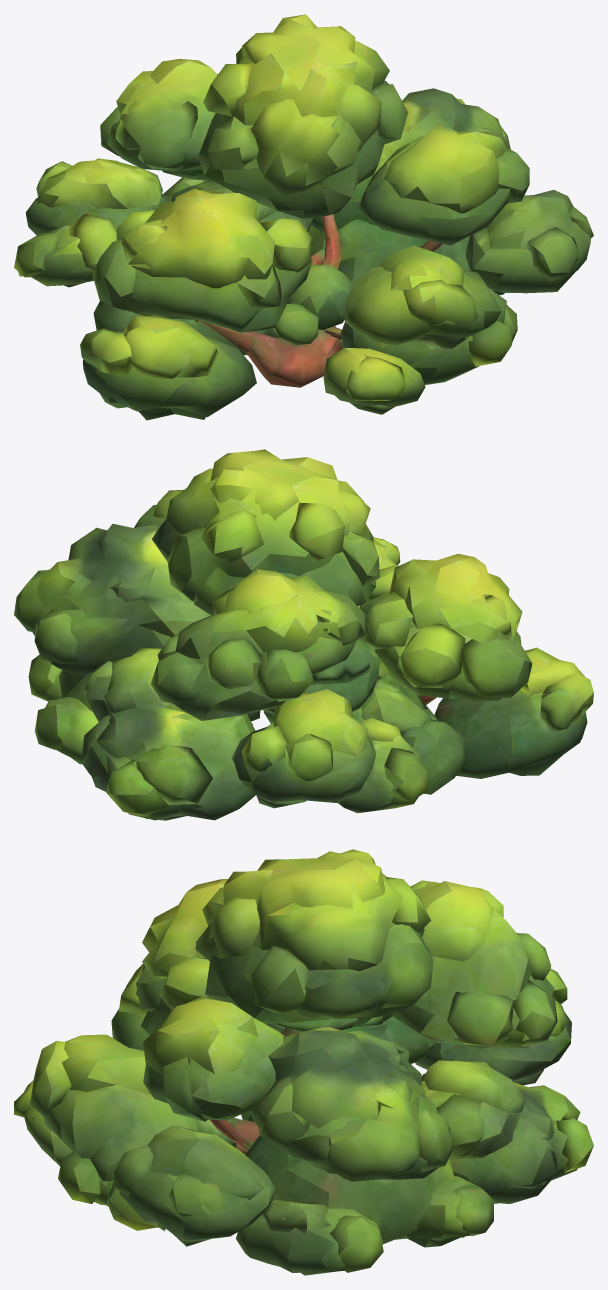
Rendered from meadow-shrub.glb.
3 renders of one model, top to bottom at view 1: azimuth 30°, elevation 25°; view 2: azimuth 150°, elevation 25°; view 3: azimuth 270°, elevation 25°, orthographic. The views are drawn at different scales.
Size of the model in its own units: 1 by 0.5859 by 0.9297.
Materials: 1 (1 with a texture image).
